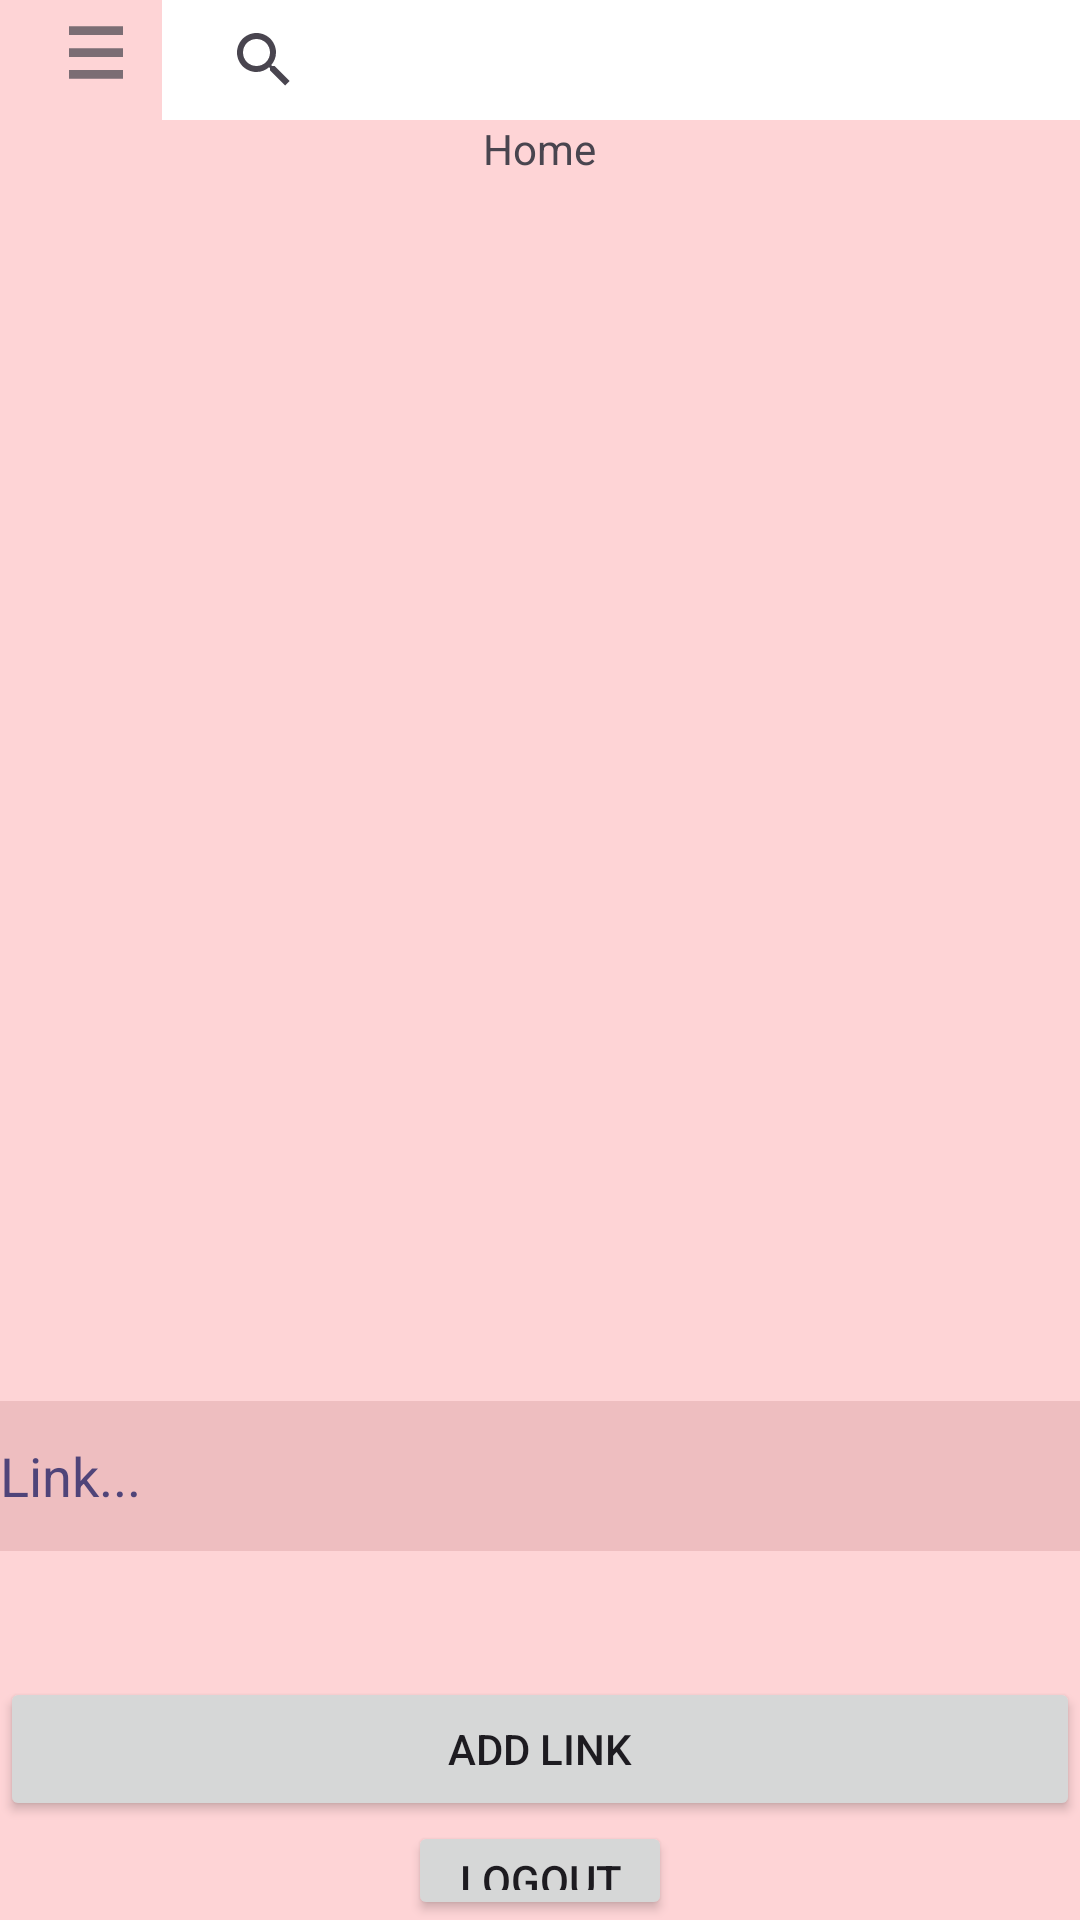

Icons on this 1080×1920 Android screen, each with its box as (x1, y1, x2, y2):
menu: (69, 26, 123, 79)
